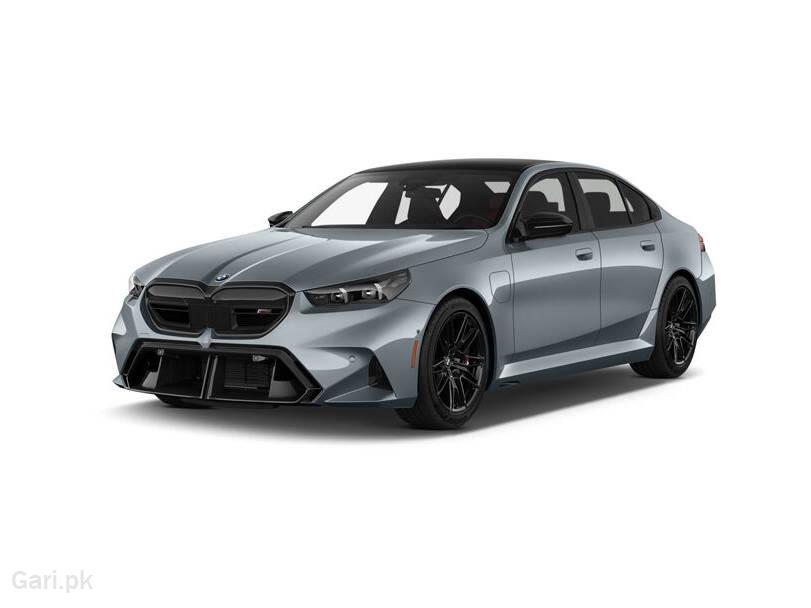Sedan: (60, 130, 753, 467)
